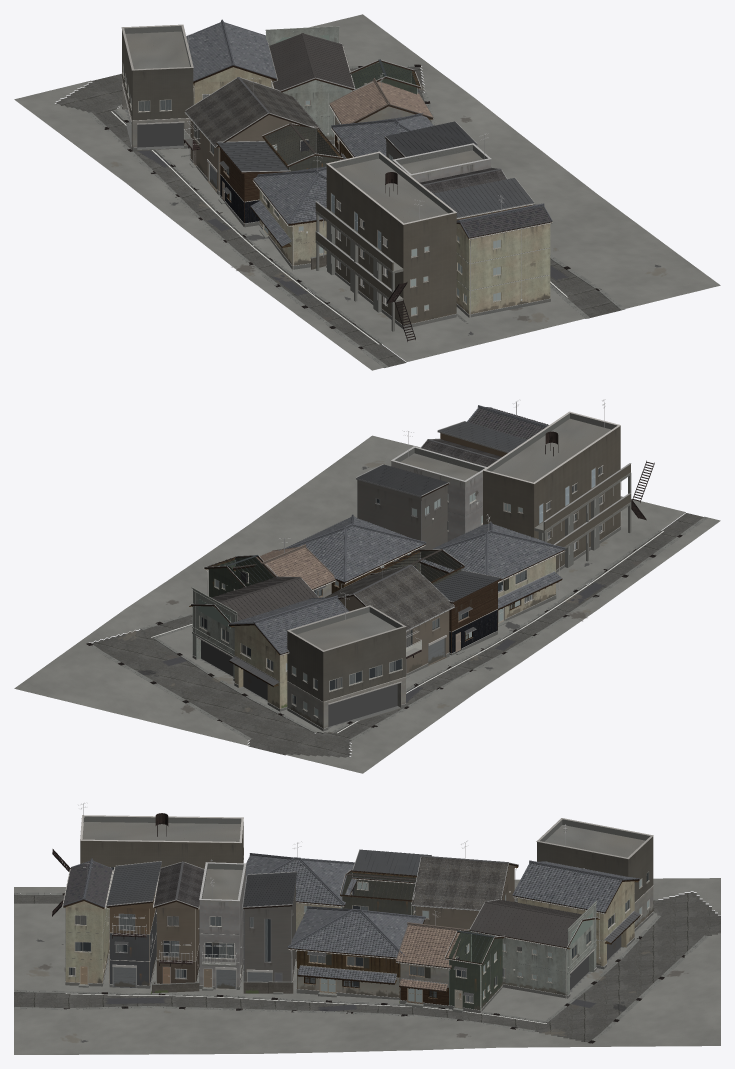
File: block_A.gltf
3 renders of one model, top to bottom at view 1: azimuth 30°, elevation 25°; view 2: azimuth 150°, elevation 25°; view 3: azimuth 270°, elevation 25°, orthographic.
Visible parts, largest first — view 1: A_ground, A01_apartment, A16_townhouse_beige, A07_corner_tile, A05_siding_house, A08_kanban_front, A02_old_mortar, A06_gable_shop, A04_low_plank, A09_small_kawara, A03_tin_shed, A15_townhouse_galva (+5 smaller); view 2: A_ground, A01_apartment, A07_corner_tile, A02_old_mortar, A05_siding_house, A06_gable_shop, A12_townhouse_slit, A08_kanban_front, A11_old_L_house, A13_townhouse_white, A04_low_plank, A09_small_kawara (+5 smaller); view 3: A_ground, A11_old_L_house, A08_kanban_front, A01_apartment, A06_gable_shop, A07_corner_tile, A15_townhouse_galva, A05_siding_house, A12_townhouse_slit, A13_townhouse_white, A16_townhouse_beige, A14_townhouse_tile (+6 smaller).
Part boxes in pixels (x1,y1,x2,y2): A_ground: (14,14,720,370); A01_apartment: (315,151,456,341); A16_townhouse_beige: (456,195,552,317); A07_corner_tile: (121,24,193,151); A05_siding_house: (183,77,322,195); A08_kanban_front: (265,26,355,143); A02_old_mortar: (250,155,363,270); A06_gable_shop: (186,19,277,104); A04_low_plank: (216,141,290,227); A09_small_kawara: (329,73,434,154); A03_tin_shed: (262,123,343,171); A15_townhouse_galva: (433,177,534,220); A_ground: (14,435,720,773); A01_apartment: (482,399,654,572); A07_corner_tile: (287,592,406,733); A02_old_mortar: (418,514,565,626); A05_siding_house: (324,560,454,678); A06_gable_shop: (228,595,348,711); A12_townhouse_slit: (356,464,449,551); A08_kanban_front: (189,576,318,680); A11_old_L_house: (274,514,426,593); A13_townhouse_white: (391,430,486,541); A04_low_plank: (433,570,501,655); A09_small_kawara: (233,538,336,597); A_ground: (14,878,720,1054); A11_old_L_house: (287,906,425,999); A08_kanban_front: (469,899,599,998); A01_apartment: (52,802,243,916); A06_gable_shop: (512,860,640,969); A07_corner_tile: (536,818,653,931); A15_townhouse_galva: (105,861,161,988); A05_siding_house: (411,841,518,929); A12_townhouse_slit: (242,871,297,994); A13_townhouse_white: (199,862,246,990); A16_townhouse_beige: (62,858,113,987); A14_townhouse_tile: (153,861,204,983).
Size of the model in its own units: 39.64 by 14.02 by 69.91.
32 materials, 22 textured.
